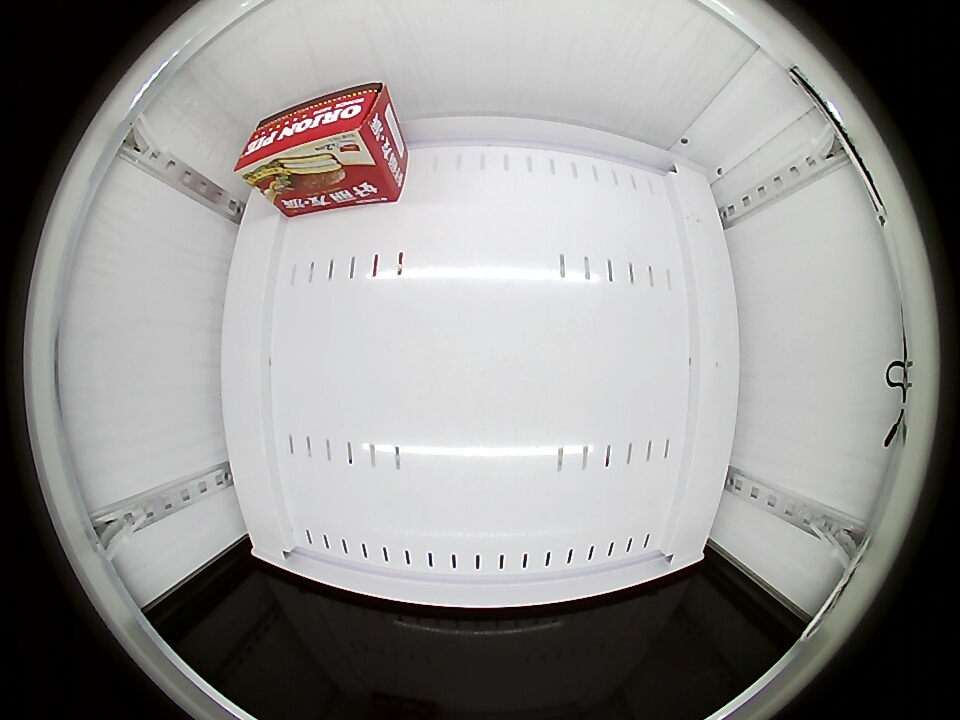haoliyou: (235, 84, 393, 190)
